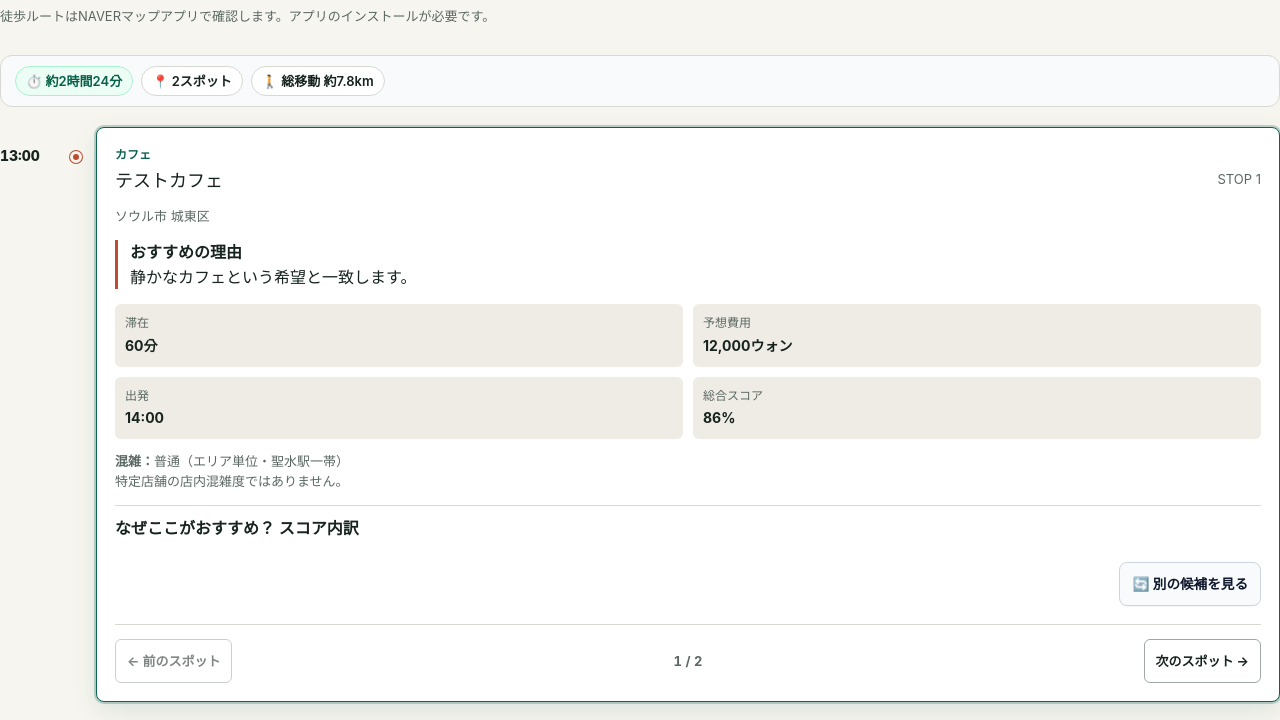
Test: trip detail editing › renders subway and bus transit route details when moving to the next place
(page scrolled)
Click the button "次のスポット →". click: (1202, 661)
box: [1144, 639, 1261, 683]
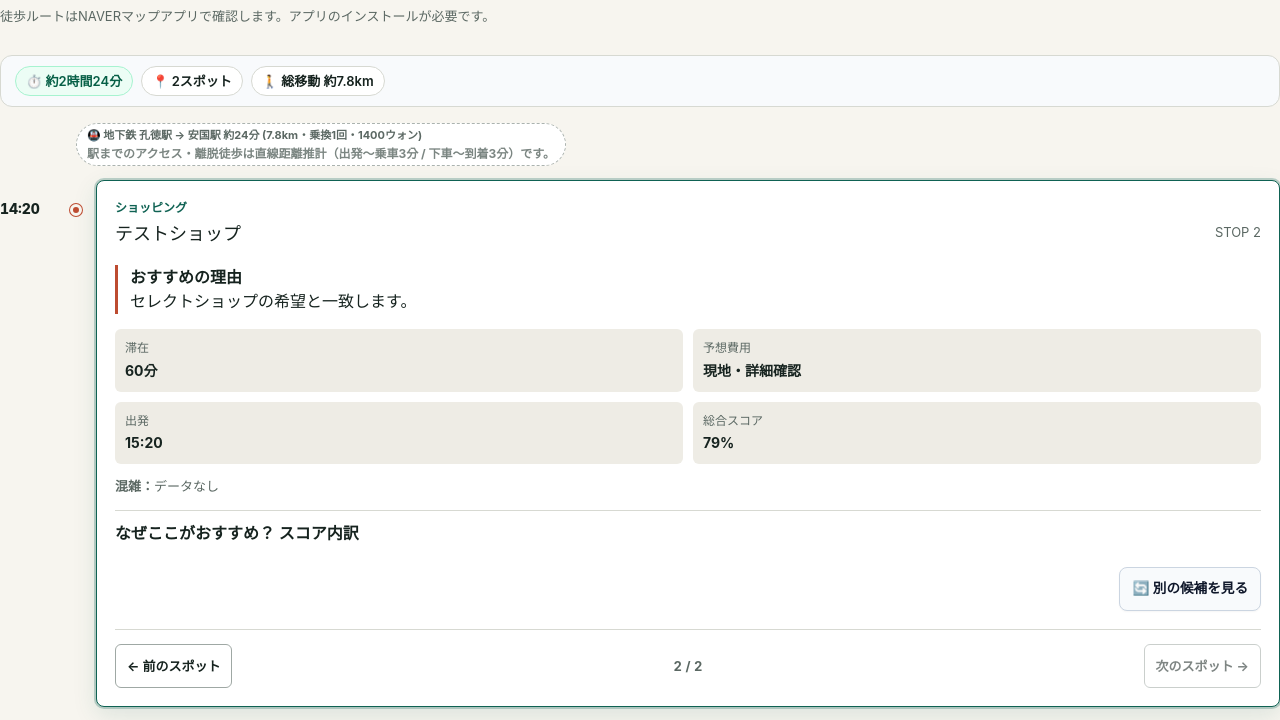
Now the text "🚇 地下鉄 孔徳駅 → 安国駅 約24分 (7.8km・乗換1回・1400ウォン)" is shown, box [87, 128, 422, 142]
Now the text "駅までのアクセス・離脱徒歩は直線距離推計（出発〜乗車3分 / 下車〜到着3分）です。" is shown, box [87, 146, 555, 162]
